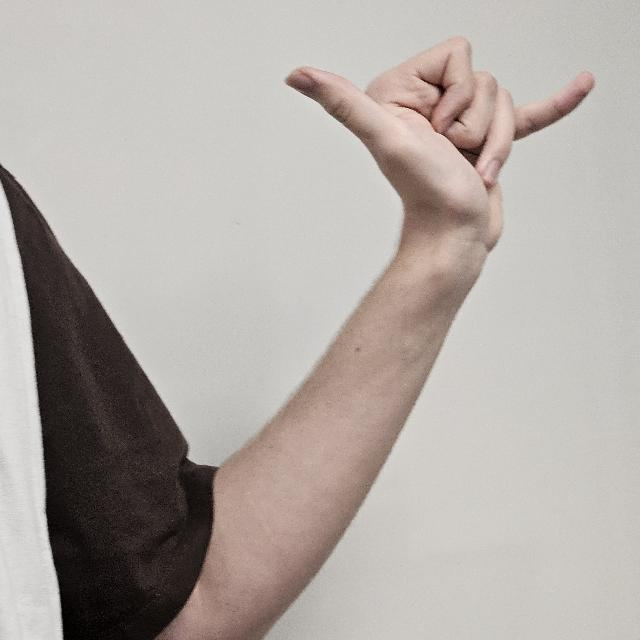Direita: (282, 34, 596, 286)
